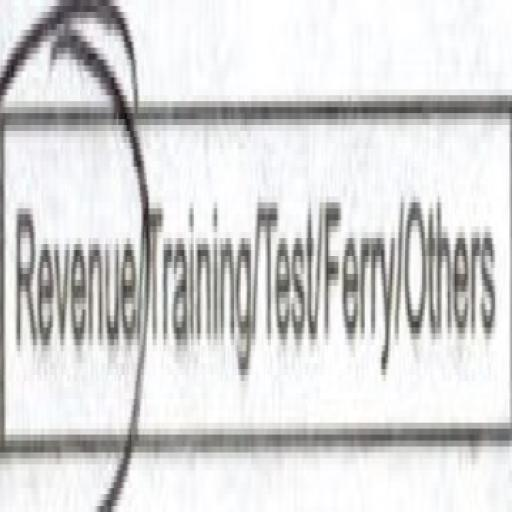check: (3, 15, 142, 512)
